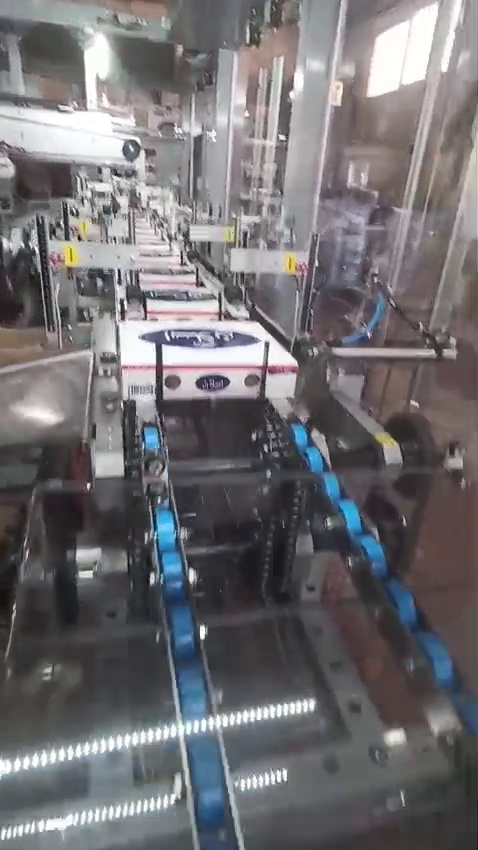savon: (0, 326, 47, 363), (60, 244, 81, 274), (466, 280, 478, 318), (373, 432, 400, 448), (0, 508, 12, 542), (434, 402, 462, 415), (283, 253, 298, 277), (77, 222, 88, 240), (225, 230, 236, 244)
